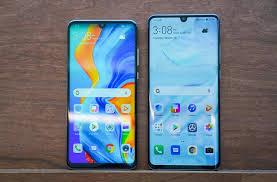huawei: (66, 16, 139, 172), (147, 12, 220, 168)
